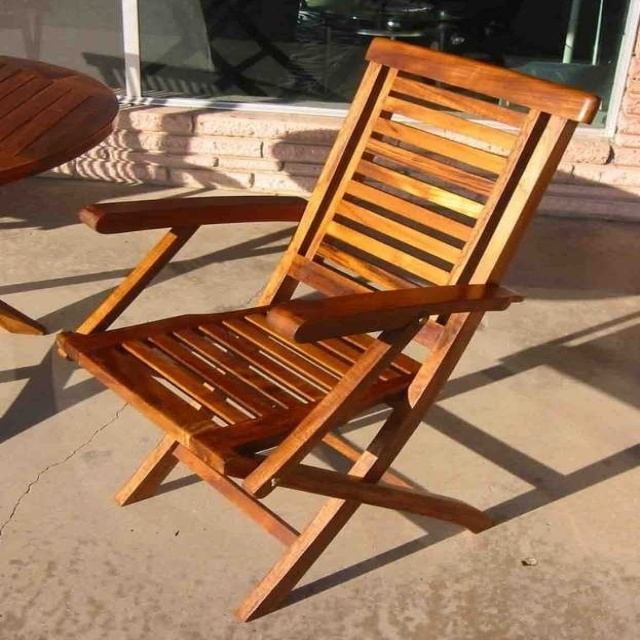obstacle: (59, 39, 597, 620)
